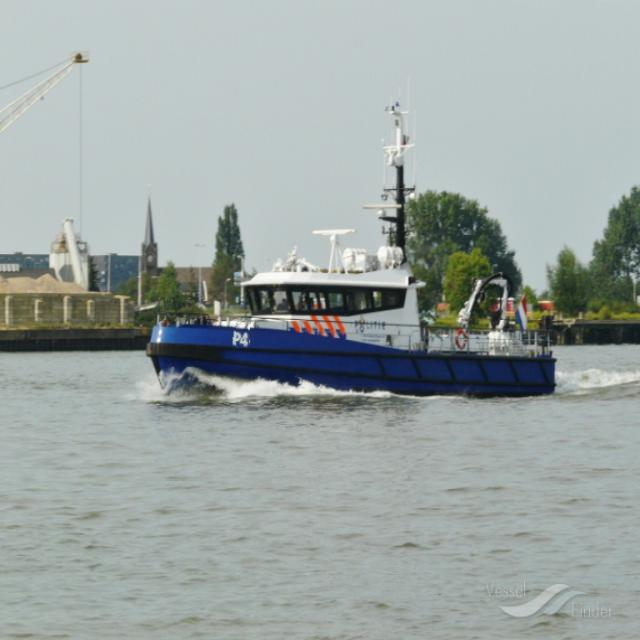OCR: (231, 318, 251, 348)
